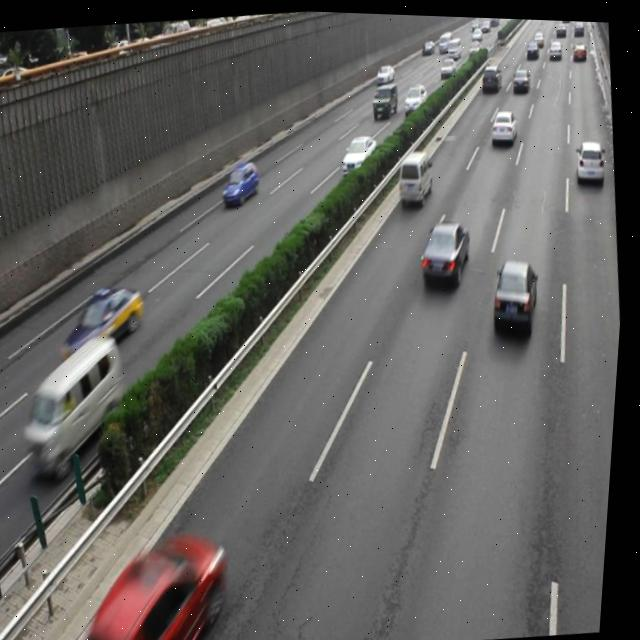car: (86, 524, 244, 640), (58, 277, 153, 365), (489, 249, 546, 332), (418, 213, 476, 287), (396, 144, 437, 204), (220, 156, 263, 204), (340, 130, 380, 173), (573, 132, 606, 180), (369, 76, 399, 116), (489, 104, 518, 141), (402, 79, 428, 111)
truck: (20, 329, 138, 472)
